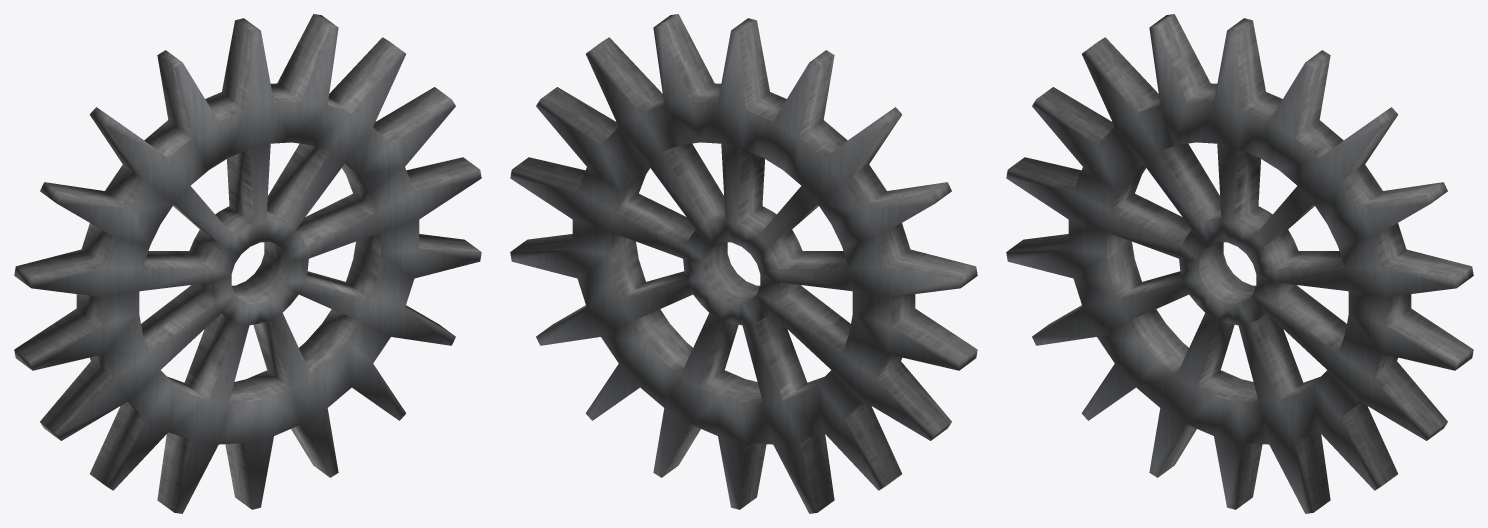
The picture shows the model from 3 angles, left to right: view 1: azimuth 30°, elevation 25°; view 2: azimuth 150°, elevation 25°; view 3: azimuth 330°, elevation 25°; orthographic projection.
Parts seen in each view (by area): view 1: gear_18; view 2: gear_18; view 3: gear_18.
Part boxes in pixels (x1=…): gear_18: x1=14, y1=14, x2=481, y2=513; gear_18: x1=510, y1=14, x2=977, y2=513; gear_18: x1=1006, y1=14, x2=1473, y2=513.
Bounding box in the file's own units: 2.14 × 2.17 × 0.2.
1 material, 1 textured.
